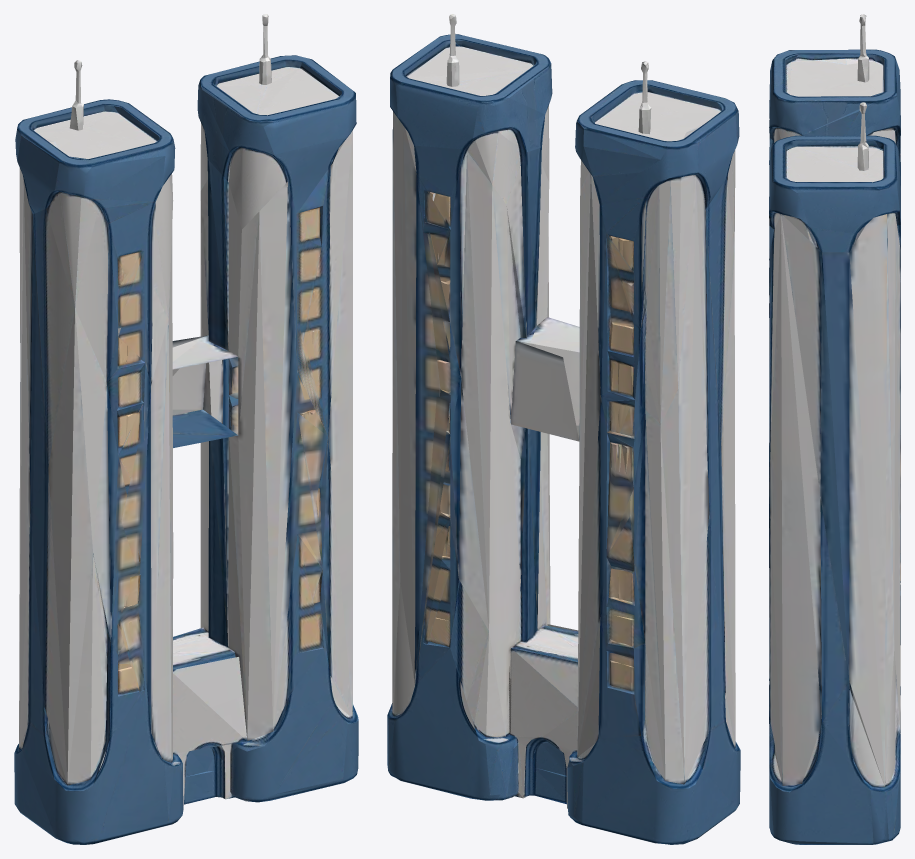
The model's file is twin-towers.glb.
3 views of the same model, side by side, from view 1: azimuth 30°, elevation 25°; view 2: azimuth 150°, elevation 25°; view 3: azimuth 270°, elevation 25° (orthographic). The views are drawn at different scales.
Bounding box in the file's own units: 0.8043 × 1.9 × 0.3166.
1 material, 1 textured.
